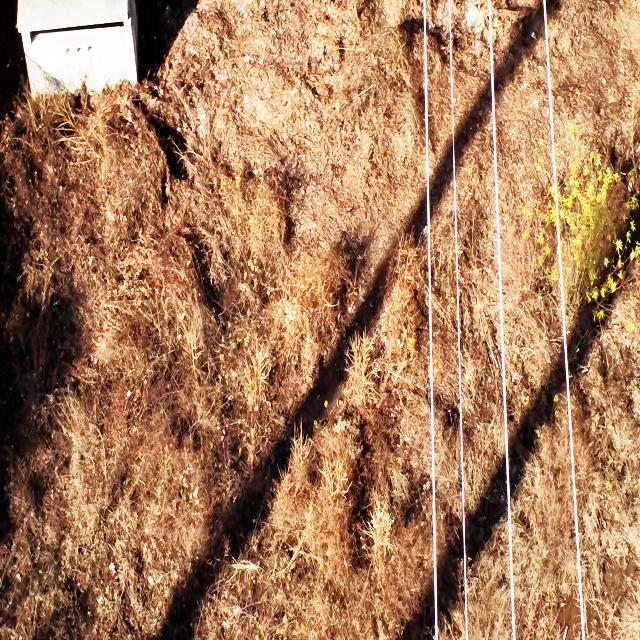wires: (542, 0, 585, 640), (488, 0, 515, 640), (423, 0, 438, 640), (448, 0, 462, 410), (456, 237, 468, 640), (464, 574, 468, 640), (462, 484, 465, 551)
